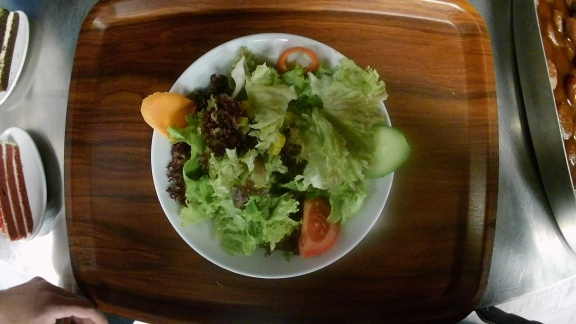salata: (145, 35, 405, 279)
